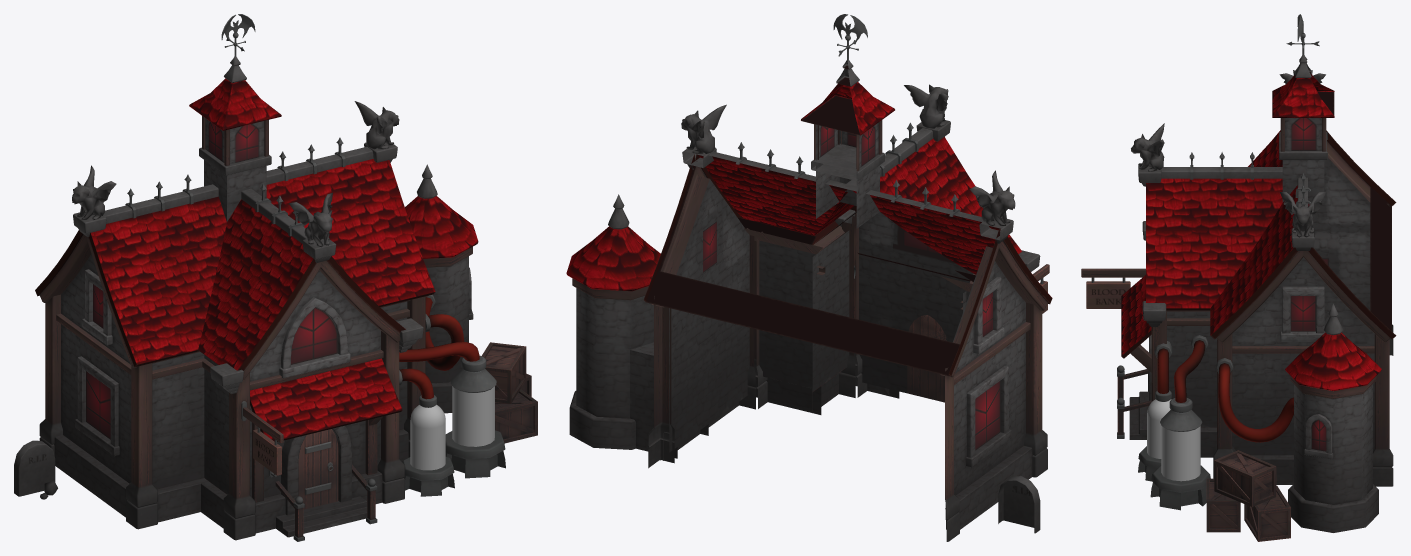
File: bloodbank_t1.fbx
3 views of the same model, side by side, from view 1: azimuth 30°, elevation 25°; view 2: azimuth 150°, elevation 25°; view 3: azimuth 270°, elevation 25° (orthographic). The views are drawn at different scales.
Visible parts, largest first — view 1: blood_bank1, blood_cylinder, blood_bank_door; view 2: blood_bank1, blood_bank_door; view 3: blood_bank1, blood_cylinder.
Boxes of the visible parts, x1=… form: blood_bank1: x1=14, y1=14, x2=537, y2=541; blood_cylinder: x1=410, y1=386, x2=494, y2=470; blood_bank_door: x1=298, y1=429, x2=338, y2=509; blood_bank1: x1=566, y1=14, x2=1052, y2=541; blood_bank_door: x1=907, y1=315, x2=946, y2=402; blood_bank1: x1=1081, y1=14, x2=1396, y2=541; blood_cylinder: x1=1147, y1=399, x2=1200, y2=481.
Bounding box in the file's own units: 1665 × 1491 × 1050.
Materials: 2 (1 with a texture image).
